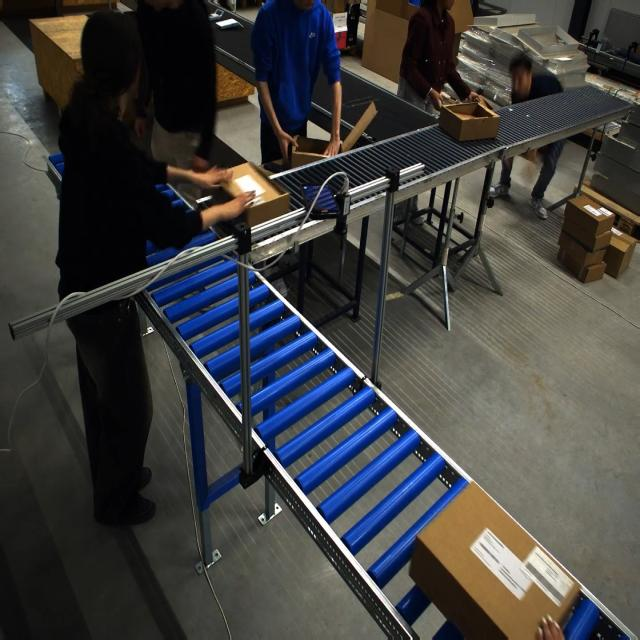box: (410, 482, 579, 639), (215, 162, 284, 230), (294, 105, 362, 169), (438, 97, 501, 142)
product: (215, 18, 244, 30), (208, 8, 225, 21), (196, 195, 214, 207)
